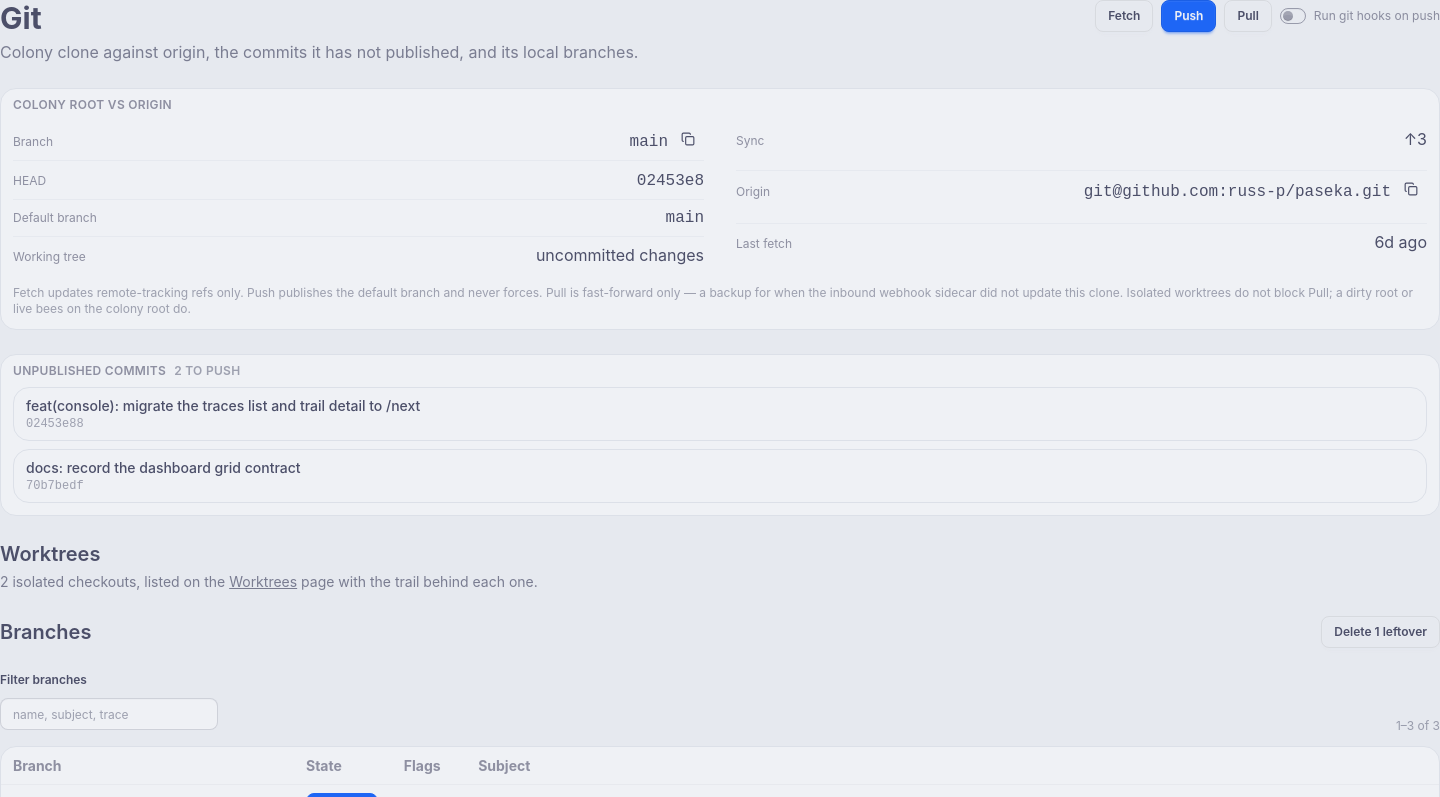
it: git route › confirms the leftover sweep, names every branch, and deletes them in one request
This screenshot has width=1440, height=797.
Click the button "Delete 1 leftover": (1381, 632) top-left (1321, 616), bottom-right (1439, 648)
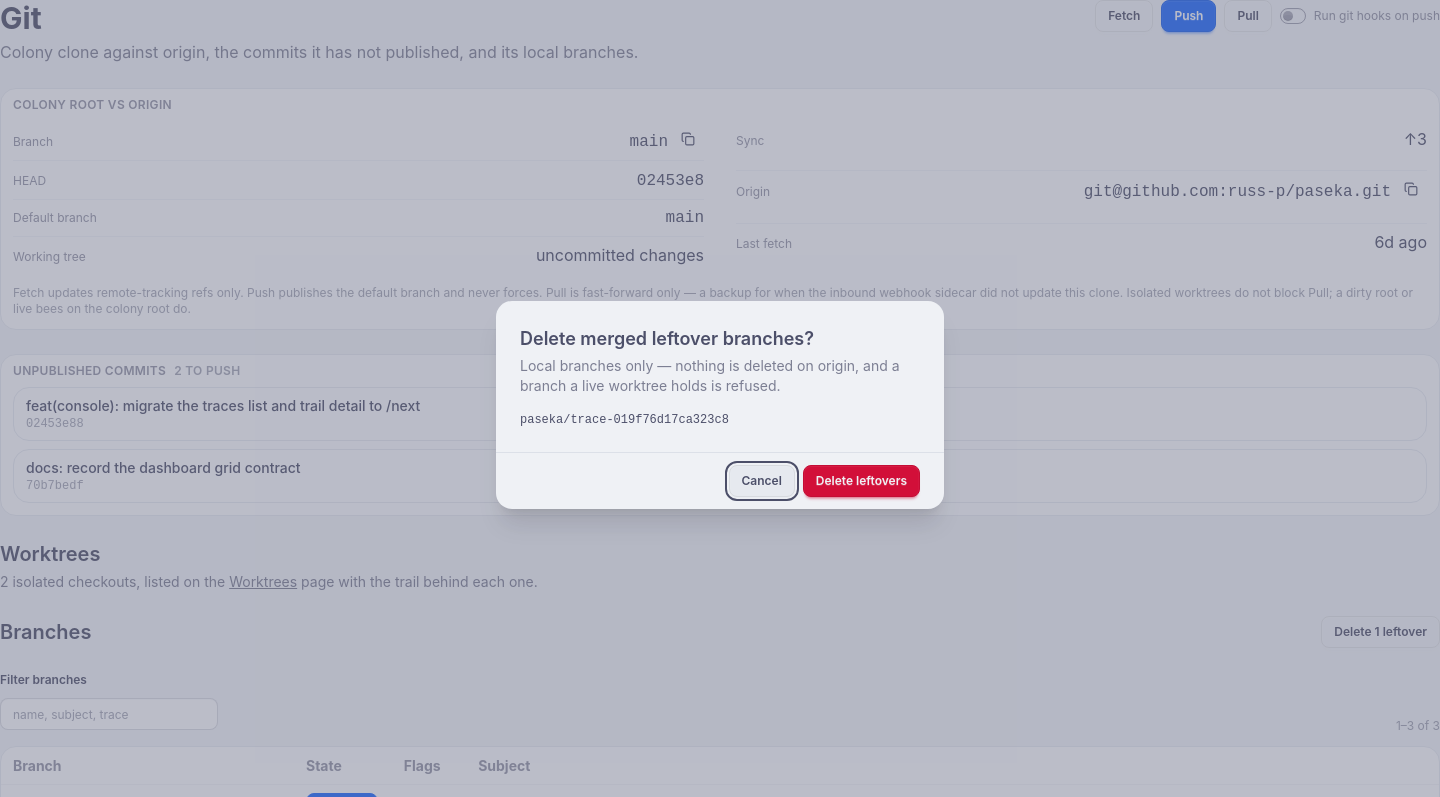
Now the list item "paseka/trace-019f76d17ca323c8" is shown, box top-left (520, 413), bottom-right (729, 427)
Click the button "Delete leftovers": (861, 481) top-left (803, 465), bottom-right (920, 497)
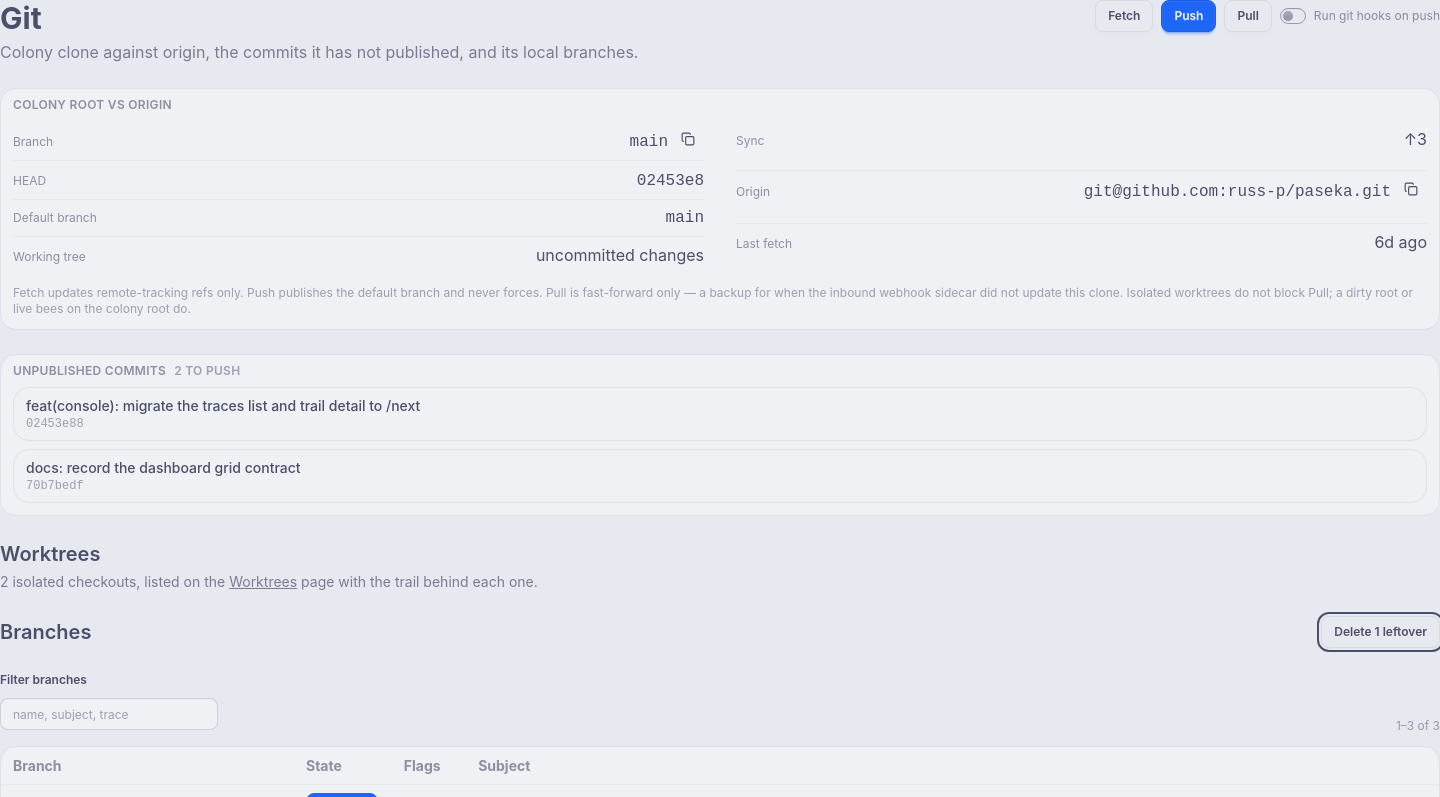
Now the dialog is gone
